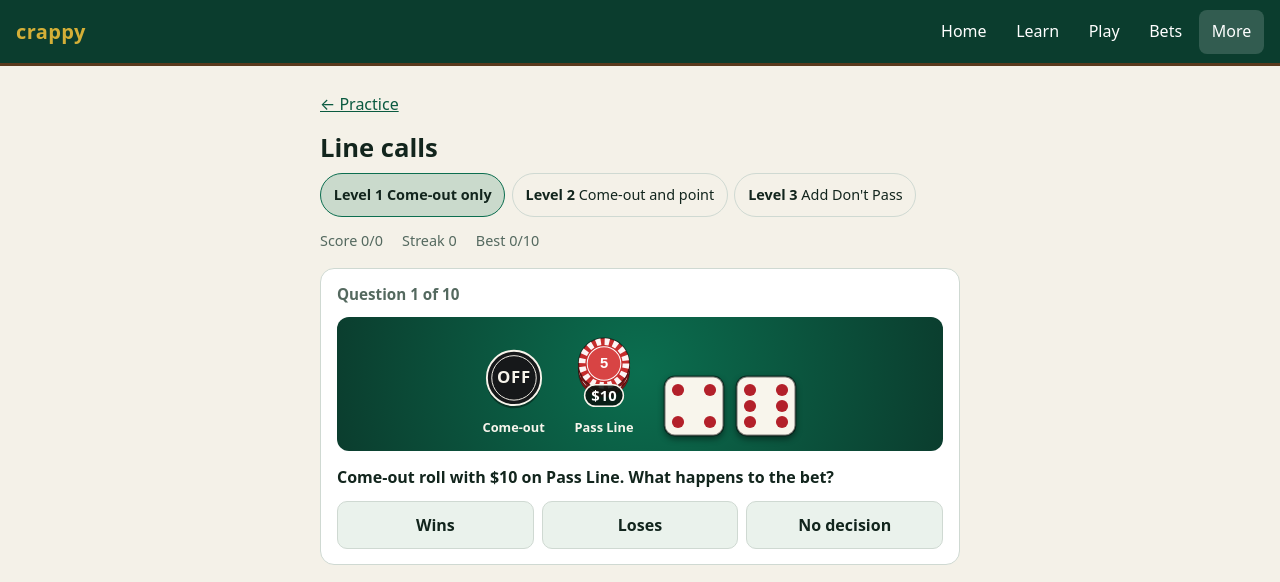
practice routes › switching level restarts the round and is remembered
Click the radio button labelled "Level 3 Add Don't Pass".
click(825, 195)  # box [734,173,916,217]
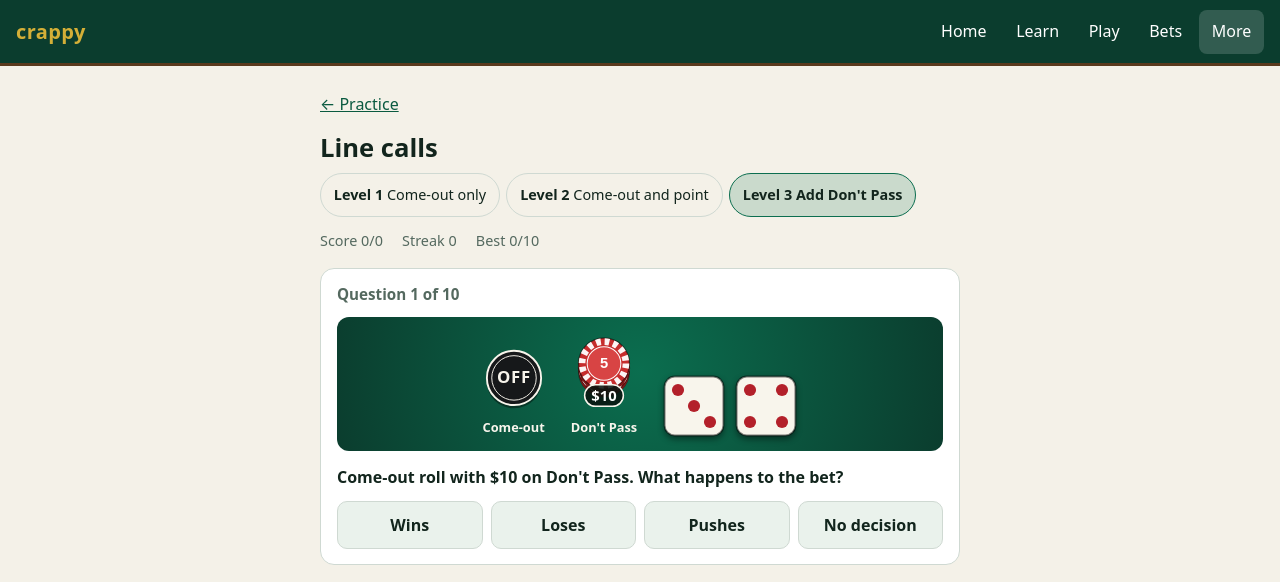
Expected: the number of buttons is 4, [337,501,482,549]; [490,501,636,549]; [644,501,790,549]; [798,501,943,549]
